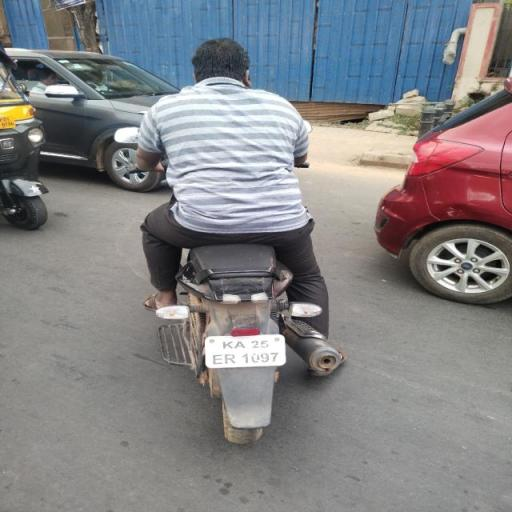bike: (113, 23, 347, 449)
numberplate: (205, 333, 289, 370)
withouthelmet: (196, 38, 245, 80)
